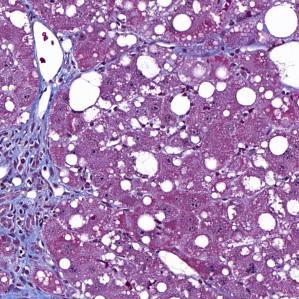fibrosis: (0, 125, 60, 248), (0, 255, 74, 299)
